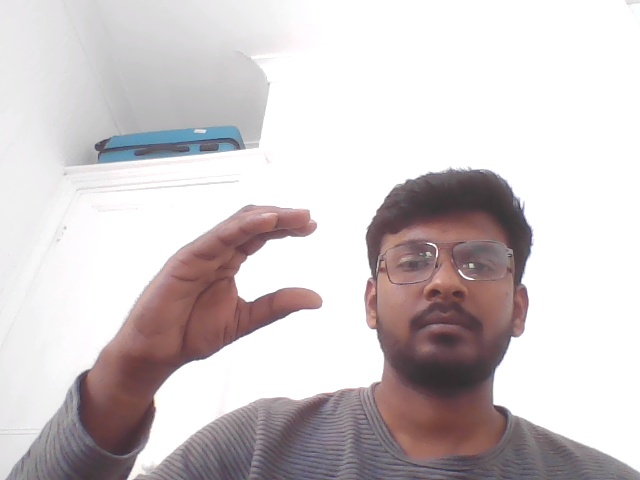No: (73, 173, 339, 449)
